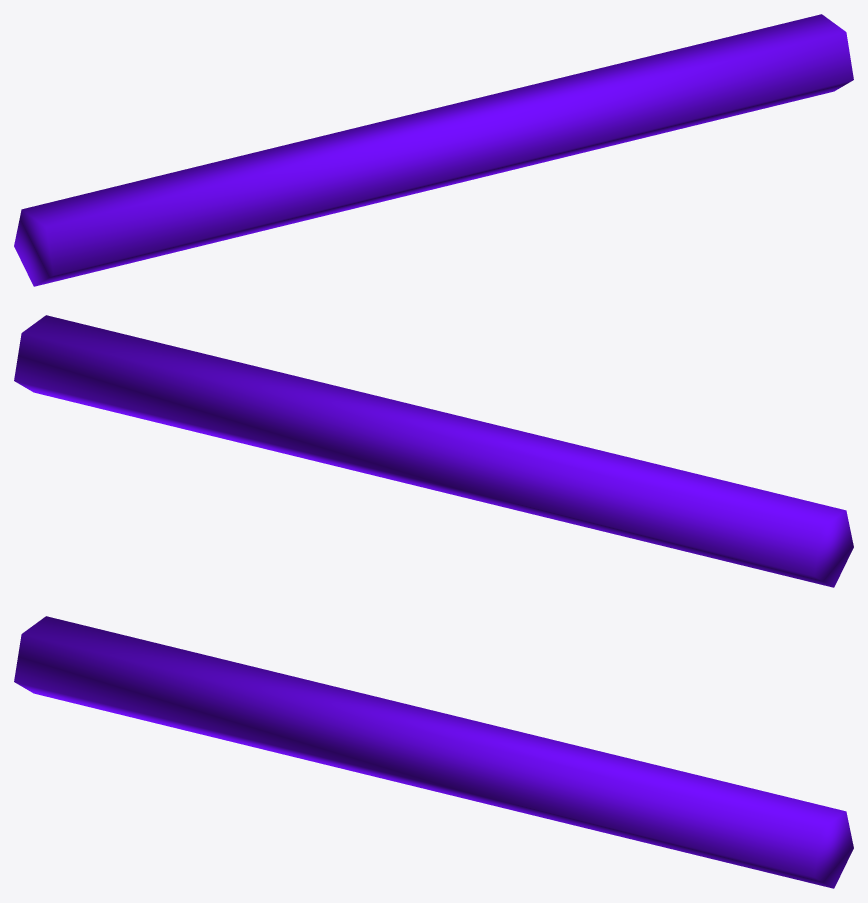
Rendered from hospital_staff_swab_1_meshCollider.fbx.
The picture shows the model from 3 angles, top to bottom: view 1: azimuth 30°, elevation 25°; view 2: azimuth 150°, elevation 25°; view 3: azimuth 330°, elevation 25°; orthographic projection.
Visible parts, largest first — view 1: hospital_staff_swab_1_meshCollider; view 2: hospital_staff_swab_1_meshCollider; view 3: hospital_staff_swab_1_meshCollider.
Part boxes in pixels (x1,y1,x2,y2): hospital_staff_swab_1_meshCollider: [14, 14, 853, 286]; hospital_staff_swab_1_meshCollider: [14, 315, 853, 587]; hospital_staff_swab_1_meshCollider: [14, 616, 853, 888].
Bounding box in the file's own units: 19.55 × 1.6 × 1.68.
